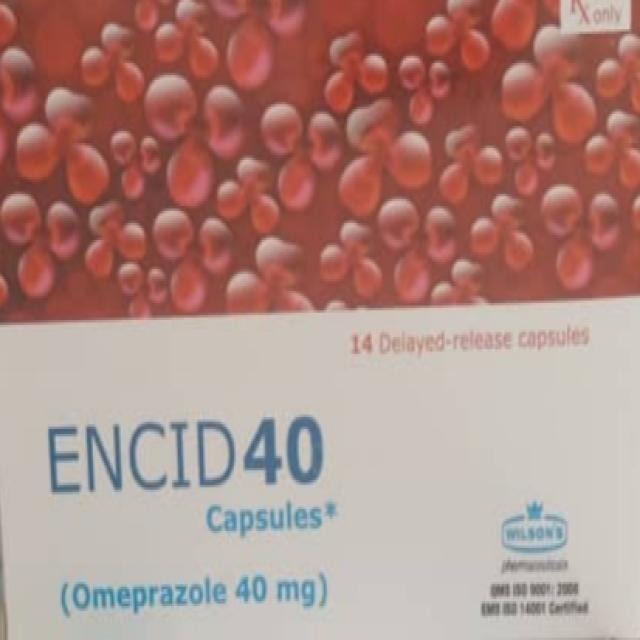drug-name: (45, 416, 332, 492)
